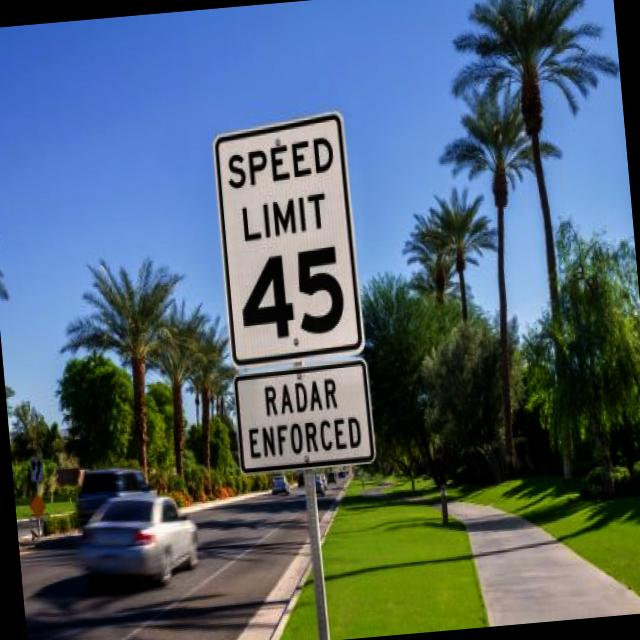Speed Limit Signs: (208, 111, 370, 370)
